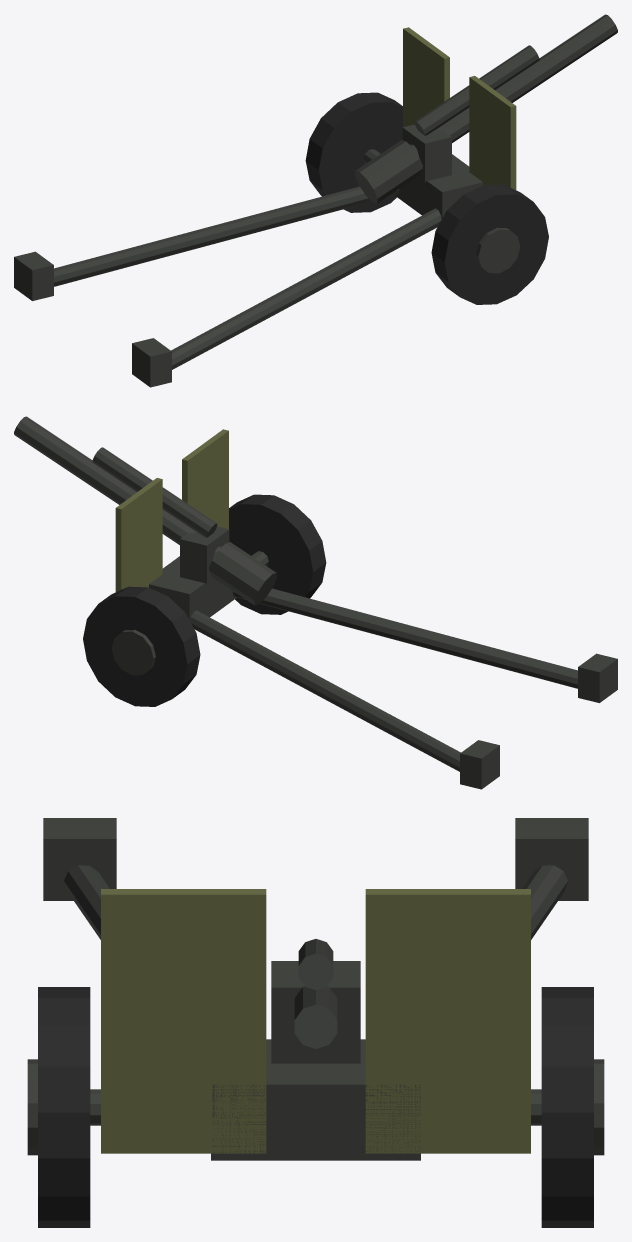
The picture shows the model from 3 angles, top to bottom: view 1: azimuth 30°, elevation 25°; view 2: azimuth 150°, elevation 25°; view 3: azimuth 270°, elevation 25°; orthographic projection. The views are drawn at different scales.
Bounding box in the file's own units: 4.69 × 1.63 × 2.2.
